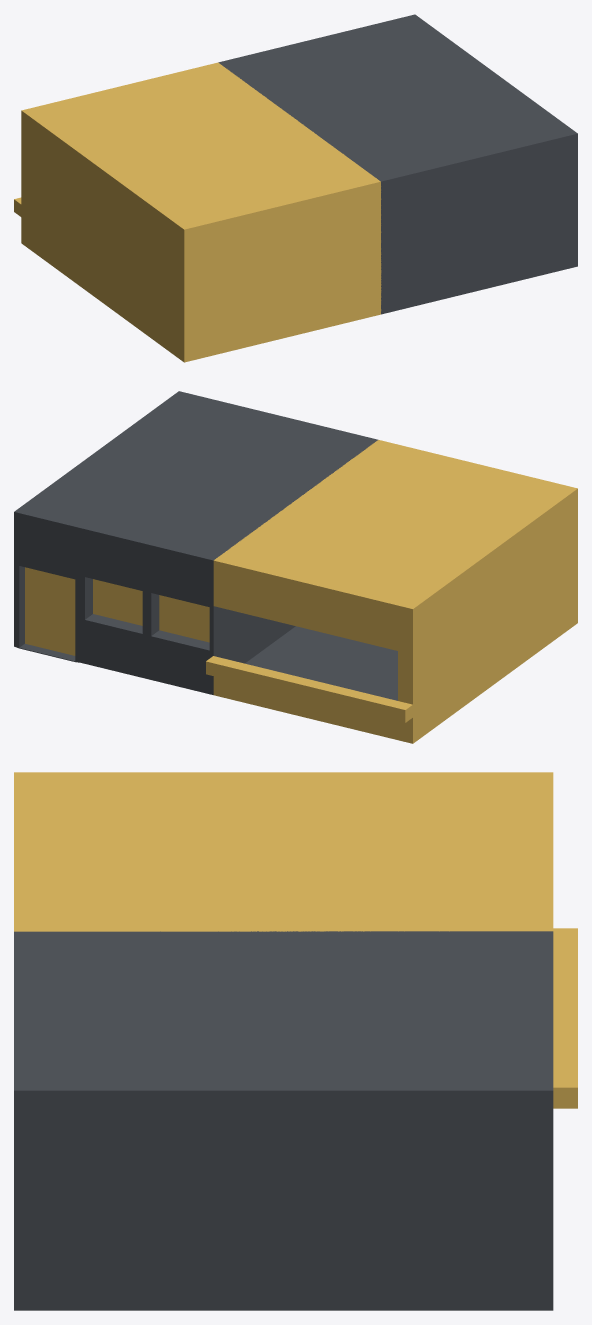
File: Cafe 1.fbx
The picture shows the model from 3 angles, top to bottom: view 1: azimuth 30°, elevation 25°; view 2: azimuth 150°, elevation 25°; view 3: azimuth 270°, elevation 25°; orthographic projection. The views are drawn at different scales.
Visible parts, largest first — view 1: Cube.003, Cube.016; view 2: Cube.003, Cube.016; view 3: Cube.016, Cube.003.
Boxes of the visible parts, <box> form: Cube.003: <box>14,62,381,362</box>; Cube.016: <box>218,14,577,314</box>; Cube.003: <box>206,440,577,743</box>; Cube.016: <box>14,391,377,694</box>; Cube.016: <box>14,931,553,1310</box>; Cube.003: <box>14,772,577,1108</box>.
Size of the model in its own units: 1135 by 368 by 850.
